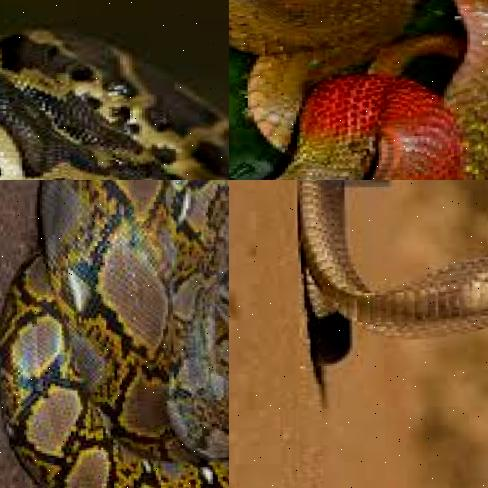snake: (1, 180, 229, 488), (229, 0, 488, 180), (277, 180, 488, 381), (0, 0, 229, 180)
